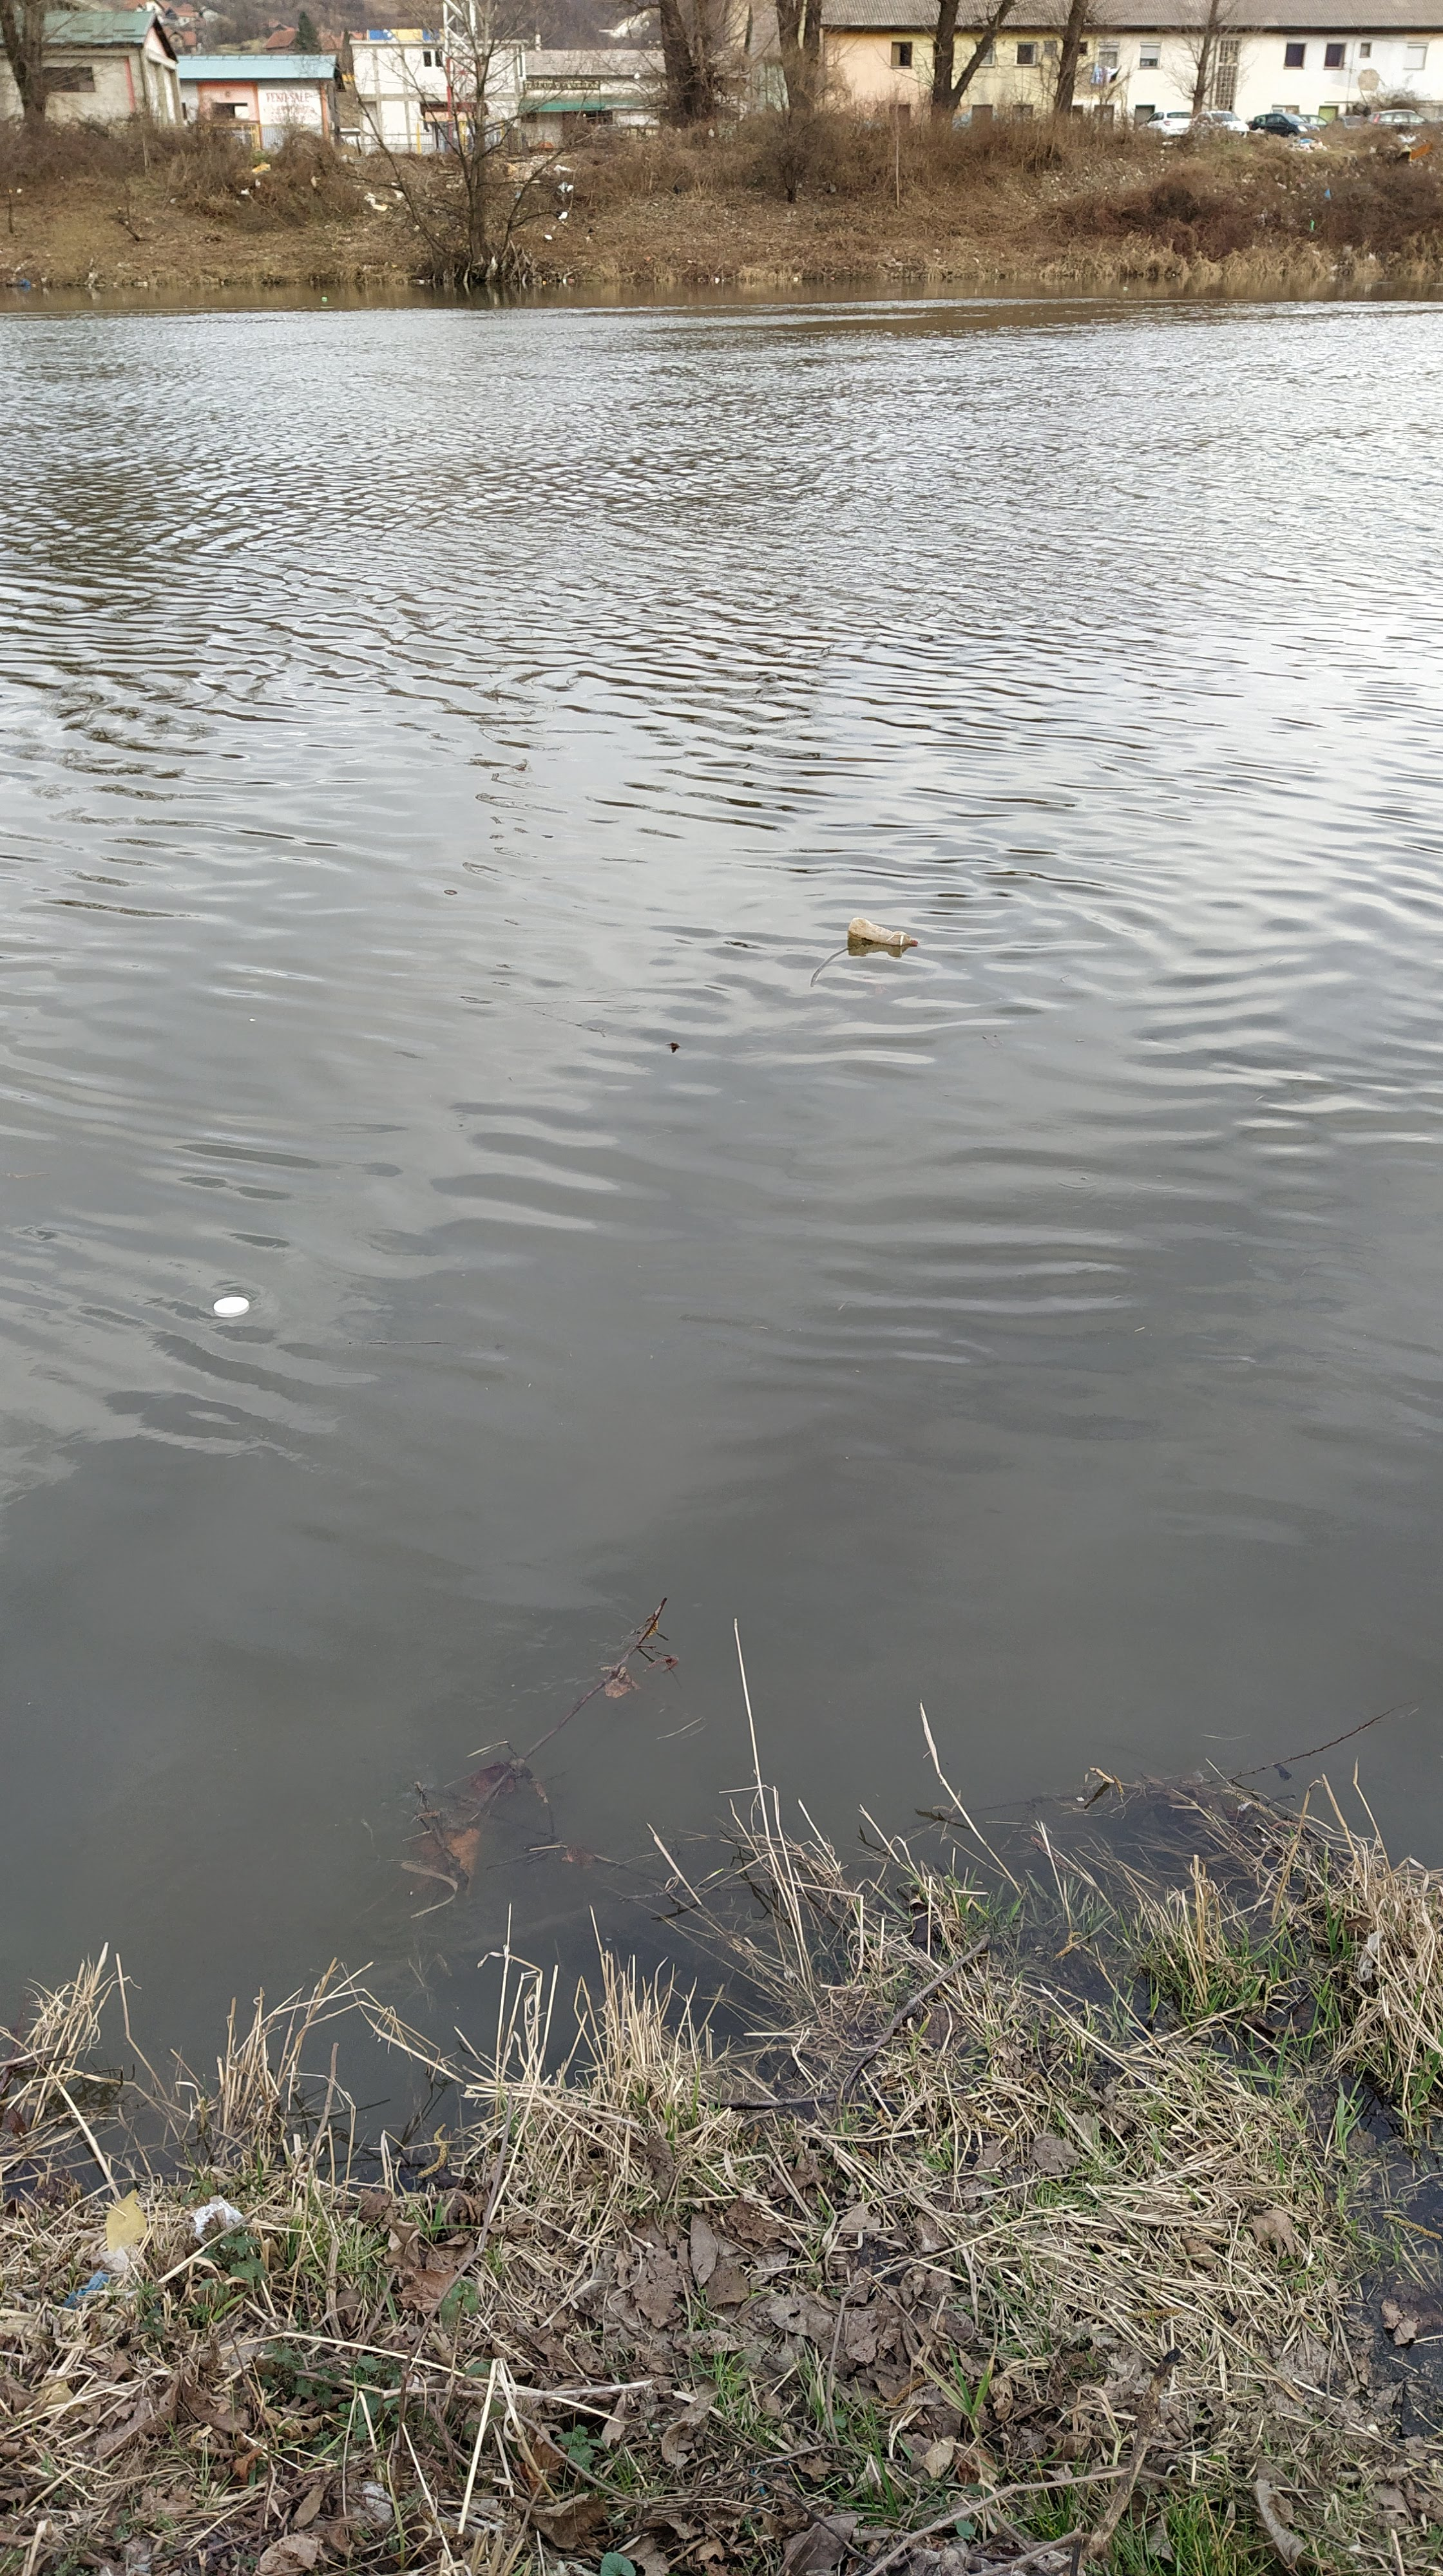Plastic Bottle: (846, 916, 917, 947), (322, 295, 326, 299), (1124, 287, 1128, 290)
